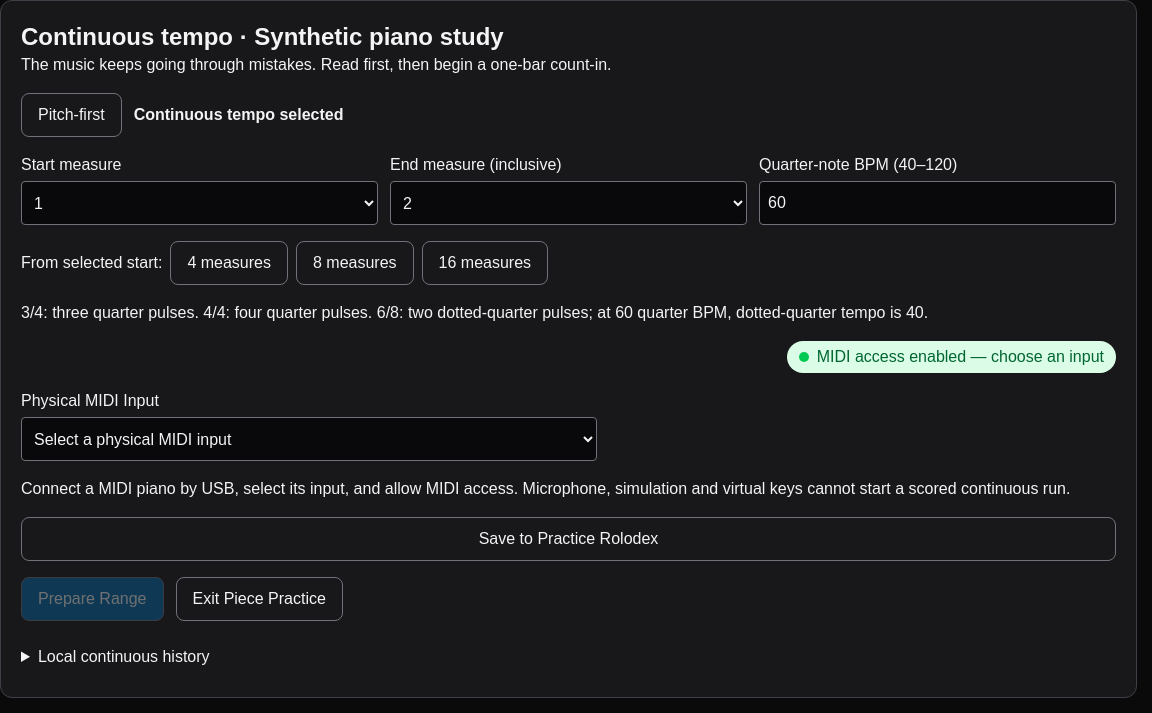
Test case: continuous workspace and native ownership boundary › selects exact 16-bar ranges, never truncates a start change and keeps longer music out of Rolodex
Click the button "16 measures" at (485, 263), box [422,241,548,285]
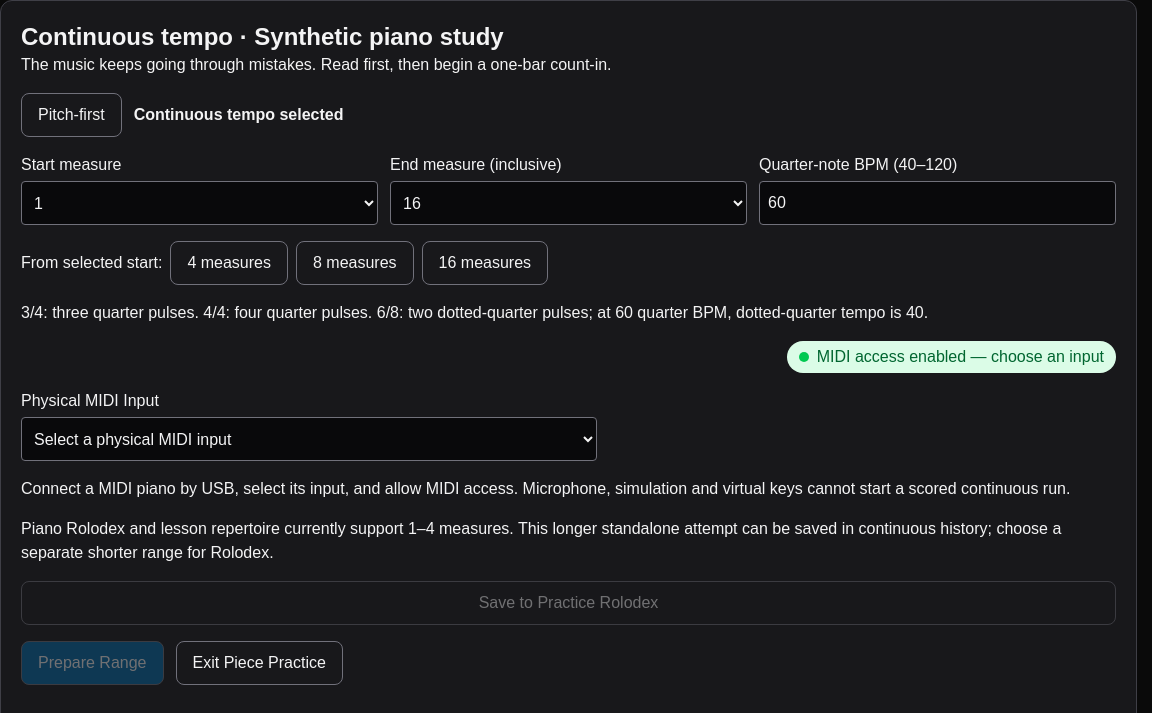
Expected: the dropdown labelled "End measure (inclusive)" shows "16", [390,181,747,225]
Expected: the button "Save to Practice Rolodex" is disabled, [21,581,1116,625]
Expected: the text "currently support 1–4" is shown, [21,520,1061,561]
Select "18" in the dropdown labelled "Start measure" at (200, 203), box [21,181,378,225]
(page scrolled)
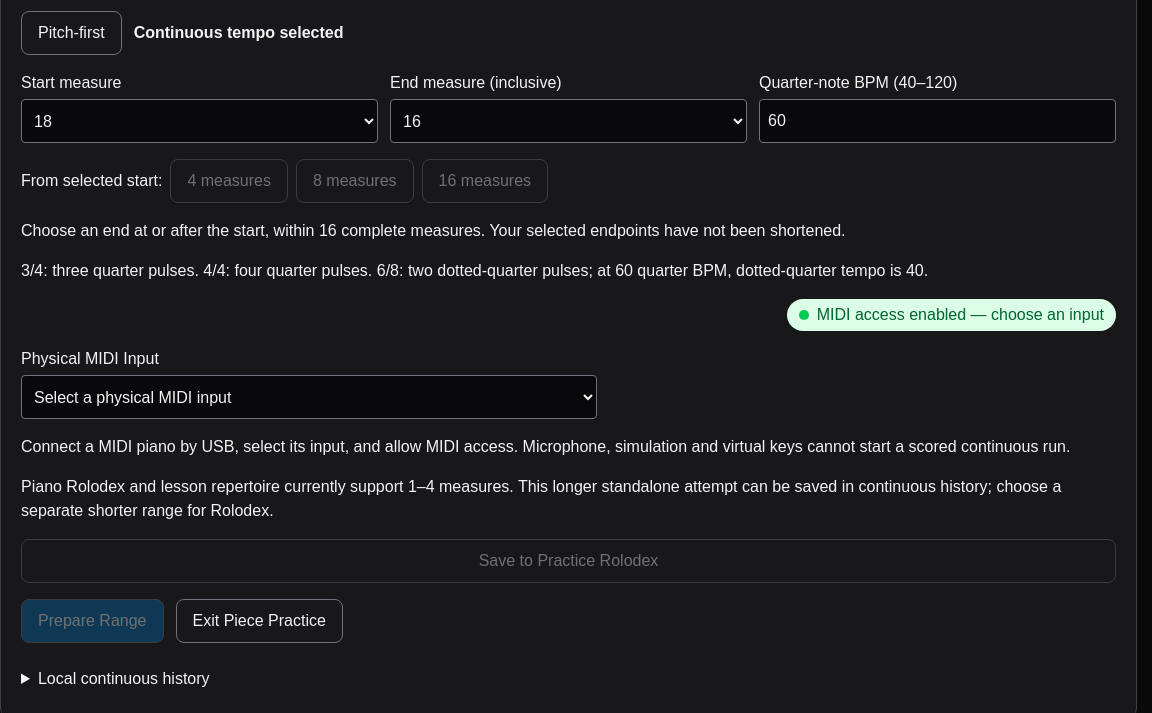
Expected: the button "Prepare Range" is disabled, [21,599,164,643]
Expected: the dropdown labelled "End measure (inclusive)" shows "16", [390,99,747,143]
Expected: the message shows "not been shortened", [21,222,846,239]
